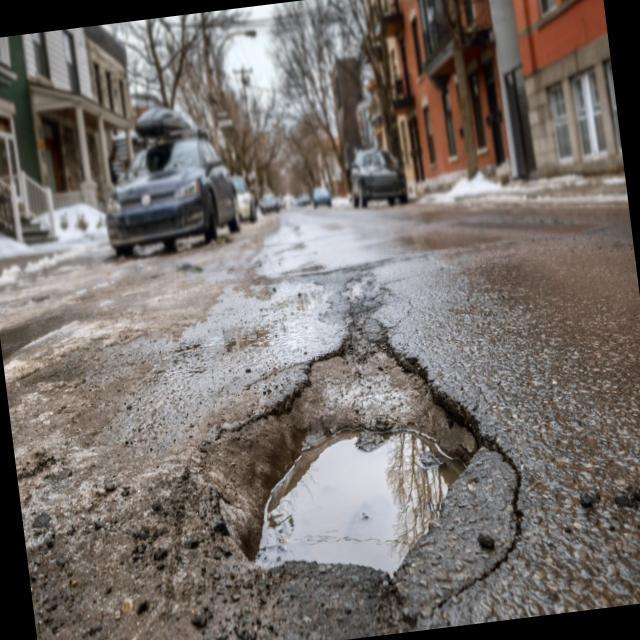Pothole: (189, 332, 536, 640)
